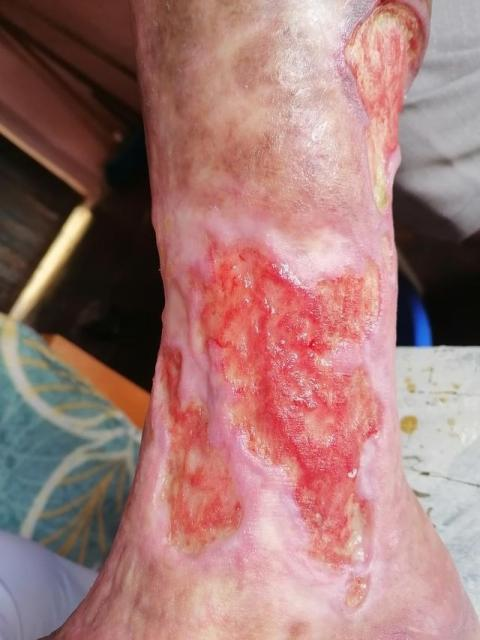wound: (194, 242, 382, 570), (156, 315, 246, 558), (346, 2, 422, 214), (346, 575, 371, 611), (383, 231, 393, 277)
